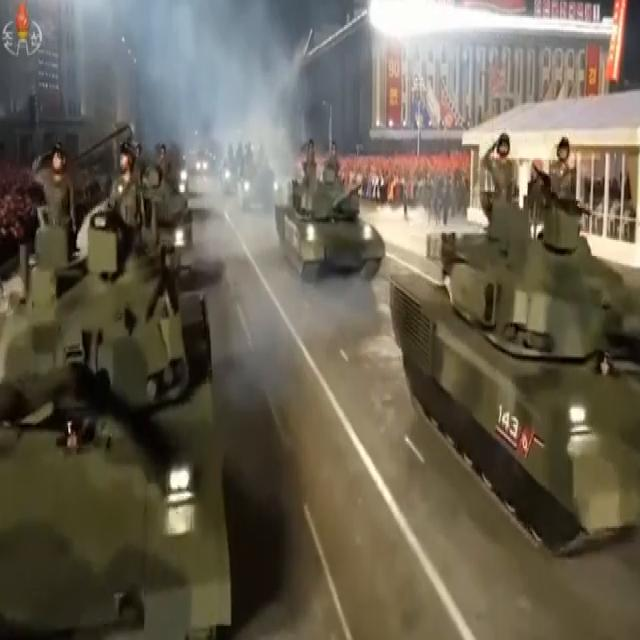north tank: (7, 190, 255, 640), (392, 156, 640, 571), (262, 121, 414, 306)
